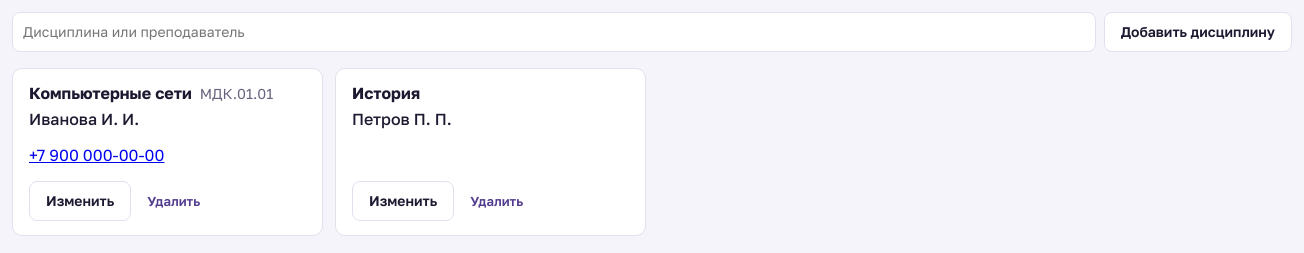
Test case: TeachersPanel › ищет по преподавателю
Expected: the heading "История" is shown, [352, 83, 420, 103]
Step 1. Type "петров" into the search field with placeholder "Дисциплина или преподаватель" → {"x": 554, "y": 32}, box [12, 12, 1096, 52]
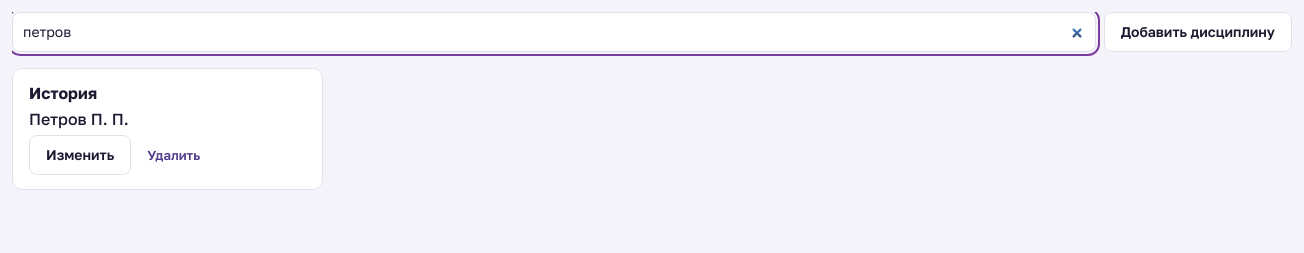
Expected: the heading "История" is shown, [29, 83, 97, 103]
Expected: the heading "Компьютерные сети" is gone
